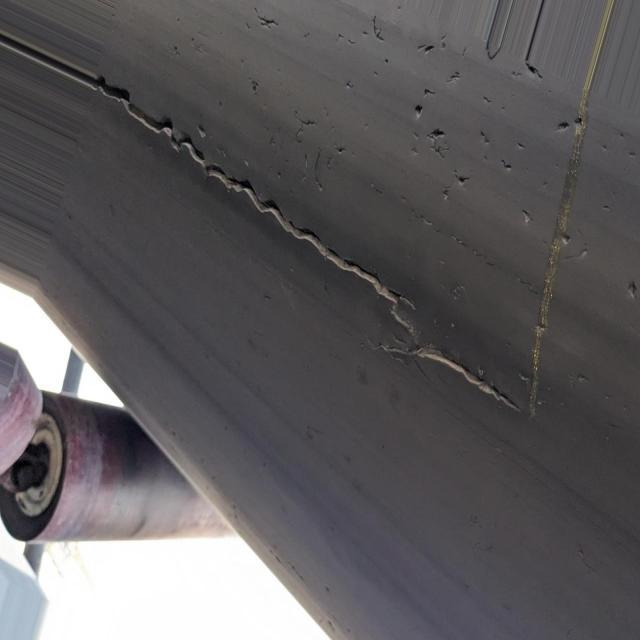Puncture: (517, 46, 546, 98), (616, 260, 640, 310), (548, 104, 574, 140), (187, 118, 215, 142), (420, 125, 452, 145), (559, 224, 578, 250), (243, 74, 266, 95), (448, 170, 475, 187), (564, 111, 590, 128), (414, 41, 438, 59), (410, 98, 428, 121), (502, 153, 514, 180), (436, 186, 456, 200), (420, 84, 438, 98)
Tear: (88, 61, 523, 420), (520, 114, 598, 418), (254, 6, 284, 32)
